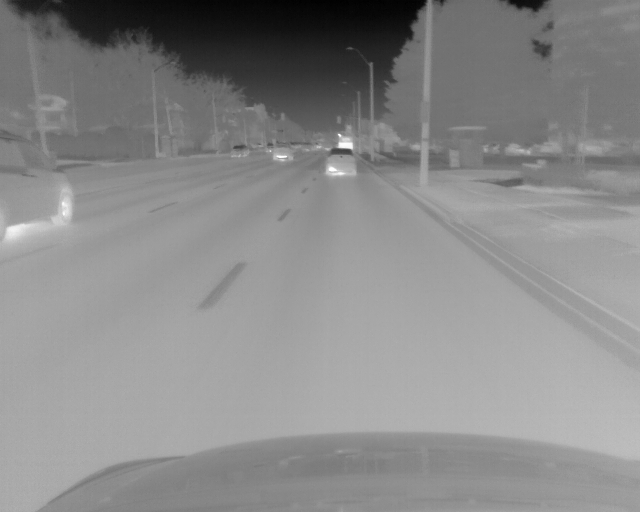car: (1, 128, 75, 242), (325, 147, 356, 174), (272, 144, 292, 161), (229, 144, 248, 158), (337, 132, 353, 147)
